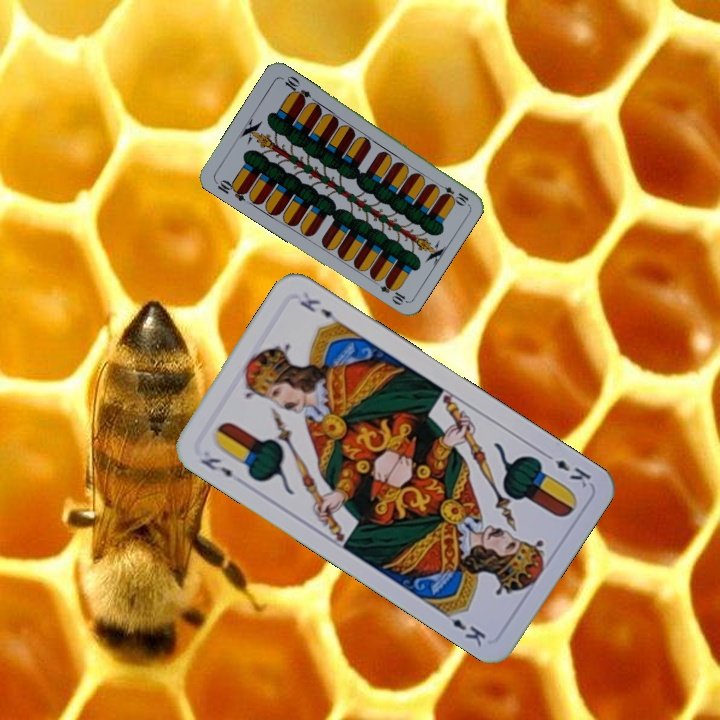E10: (211, 175, 250, 204), (433, 179, 471, 207)
EK: (539, 448, 594, 490), (196, 453, 235, 480)
